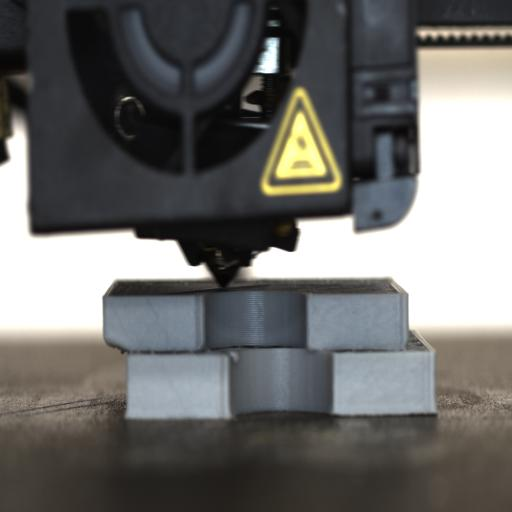layer_shift: (104, 337, 436, 363)
